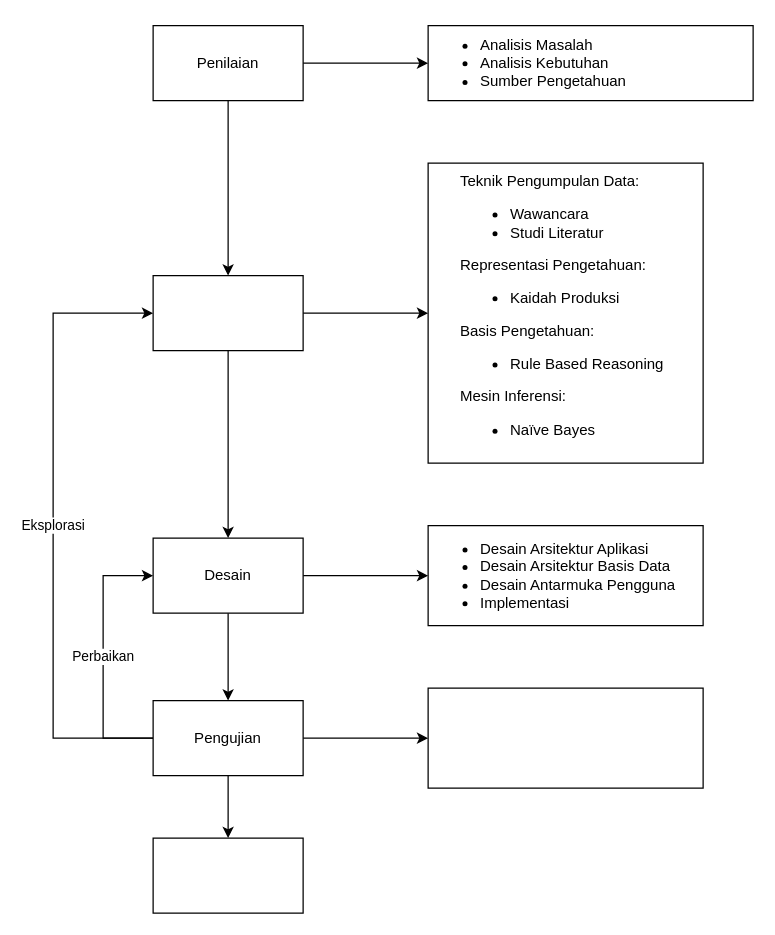
Some shapes in this 775 by 935 pixel diagram are drawn without their labels. Here are the shapes that lost their labels. From the top down, the centre of each, then its label:
point 227,312: Akuisisi Pengetahuan
point 565,737: Black Box Testing White Box Testing Uji Pakar
point 227,875: Dokumentasi
